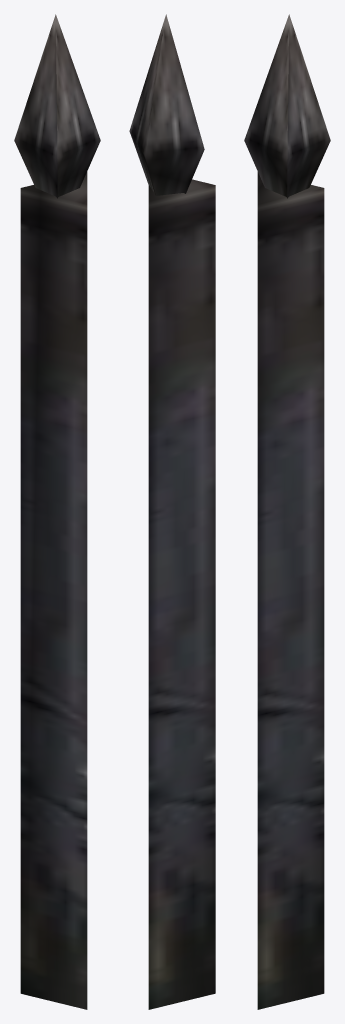
File: fence-post.glb
3 renders of one model, left to right at view 1: azimuth 90°, elevation 25°; view 2: azimuth 150°, elevation 25°; view 3: azimuth 270°, elevation 25°, orthographic.
Parts seen in each view (by area): view 1: fence-post_Geoset0; view 2: fence-post_Geoset0; view 3: fence-post_Geoset0.
Part boxes in pixels (bbox=[...]): fence-post_Geoset0: bbox=[14, 14, 100, 1009]; fence-post_Geoset0: bbox=[129, 14, 215, 1009]; fence-post_Geoset0: bbox=[244, 14, 330, 1009].
Bounding box in the file's own units: 0.3732 × 4.66 × 0.3732.
1 material, 1 textured.
